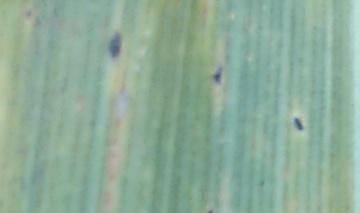tarspot: (104, 31, 123, 58), (209, 61, 222, 87), (197, 6, 209, 27), (292, 115, 304, 133), (32, 14, 41, 28), (257, 176, 266, 188), (24, 8, 31, 15), (205, 208, 214, 213)
